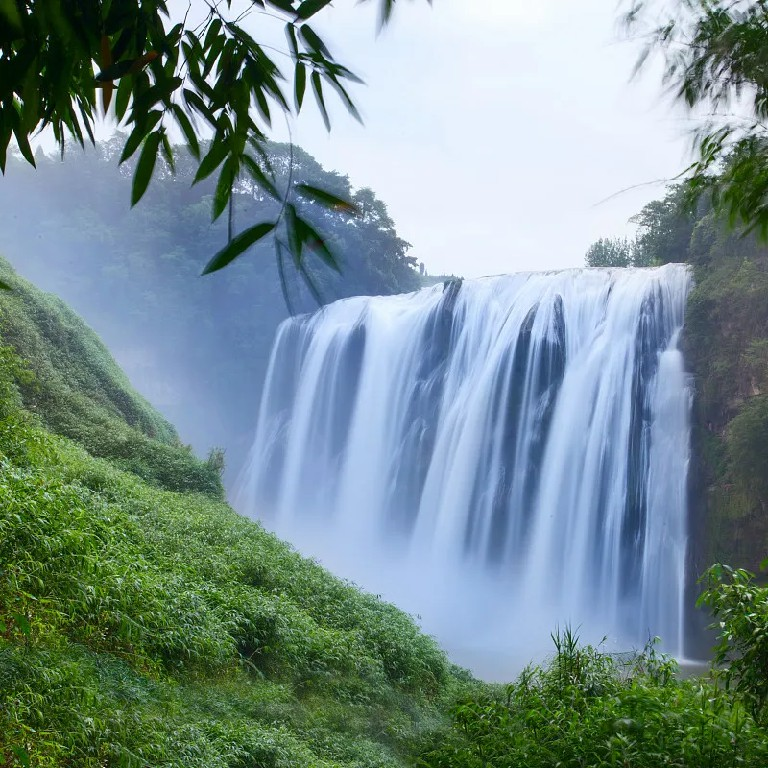Huangguoshu: (254, 263, 695, 666)
